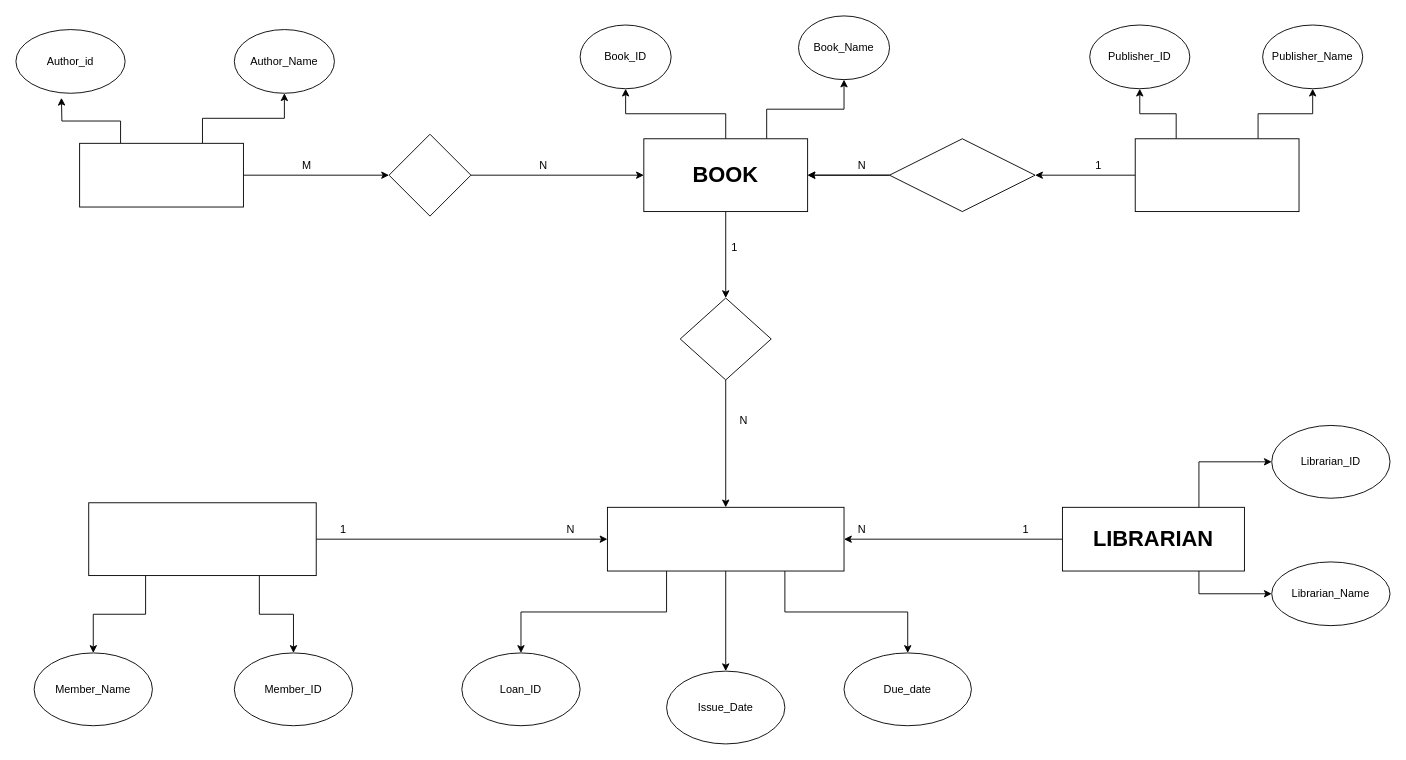
Image size: 1406x760. Some labels were removed from this diagram. The shapes that lost their labels are listed below. From the top down, each one's box as (x1, y1, x2, y2) in pixels, then its label:
(79, 142, 243, 207): AUTHOR
(388, 133, 471, 216): WRITES
(889, 138, 1035, 212): PUBLISHES
(1134, 138, 1299, 212): PUBLISHER
(679, 297, 771, 380): BORROWED FROM
(88, 502, 316, 576): MEMBER
(607, 506, 844, 571): LOAN
